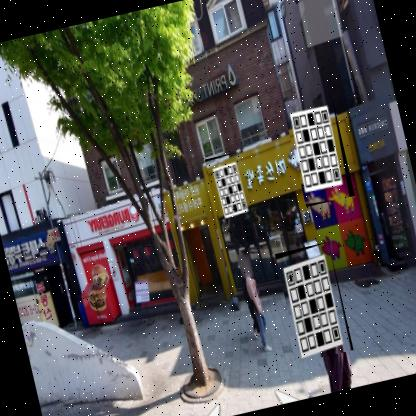qncode: (274, 242, 354, 364), (281, 91, 355, 208), (204, 152, 254, 224)
